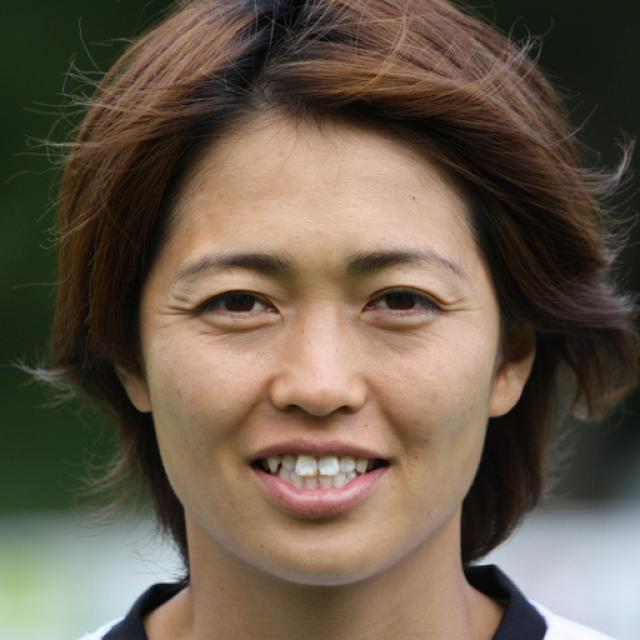disgust: (145, 121, 496, 584)
